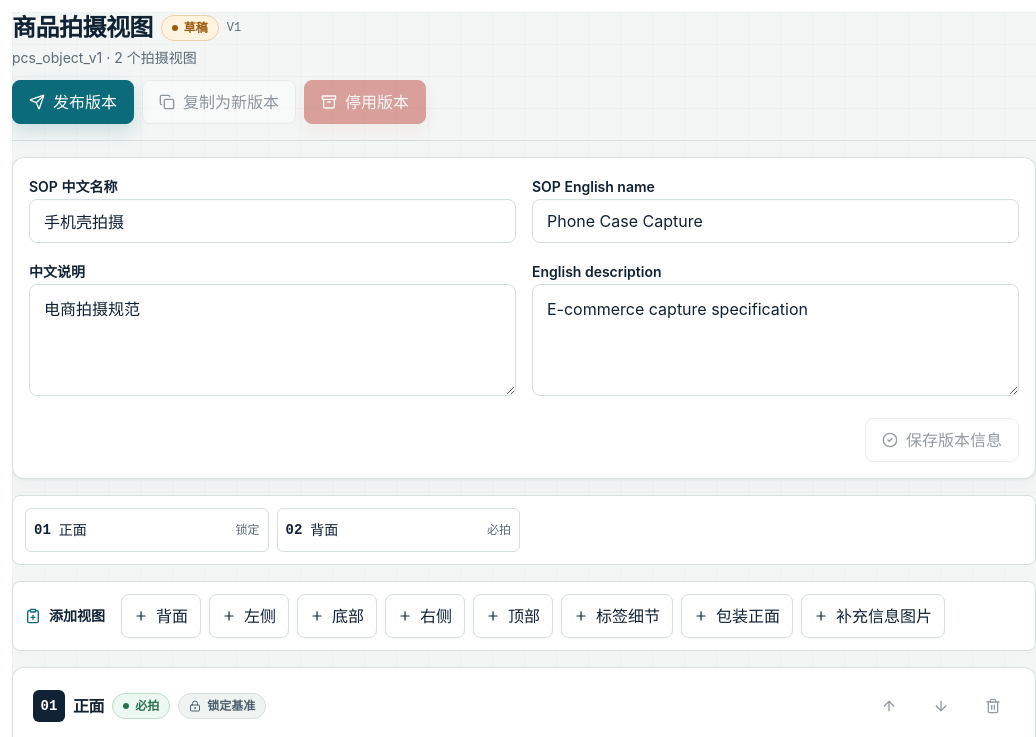
Test: SOPVersionEditor › validates before publishing and only publishes when no issues remain
The width and height of the screenshot is (1036, 737).
Click the button "发布版本". click: (73, 102)
box: [12,80,134,124]
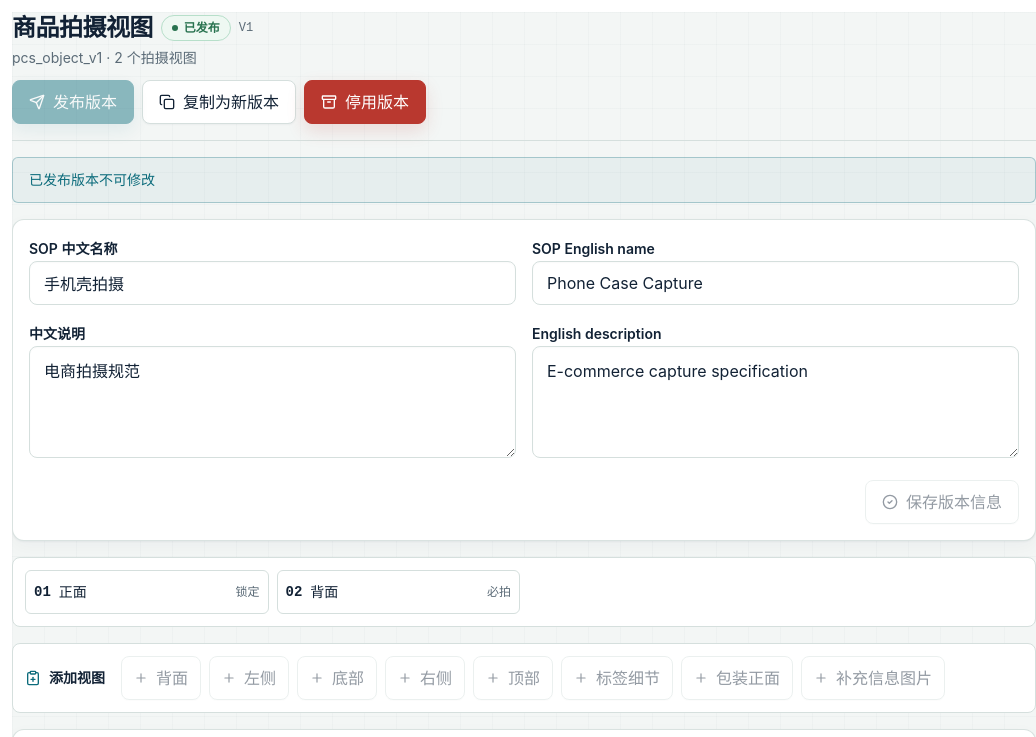
Now the text "已发布版本不可修改" is shown, box [12,157,1035,203]
